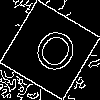O: (25, 25, 82, 85)
